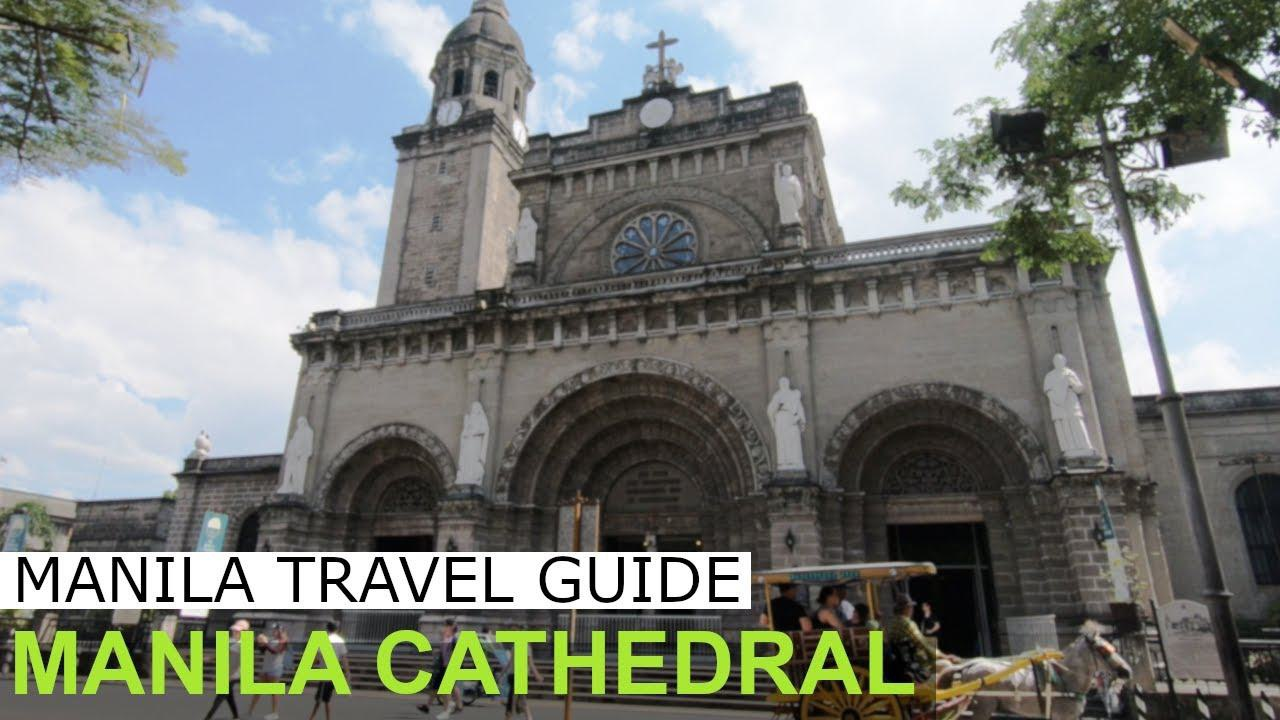manila_cathedral_church_intramuros_manila: (278, 1, 1169, 707)
